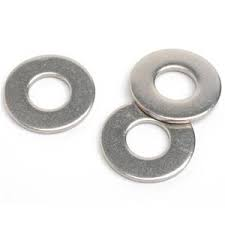No thread: (122, 117, 180, 158), (149, 62, 203, 105), (25, 75, 75, 110)
